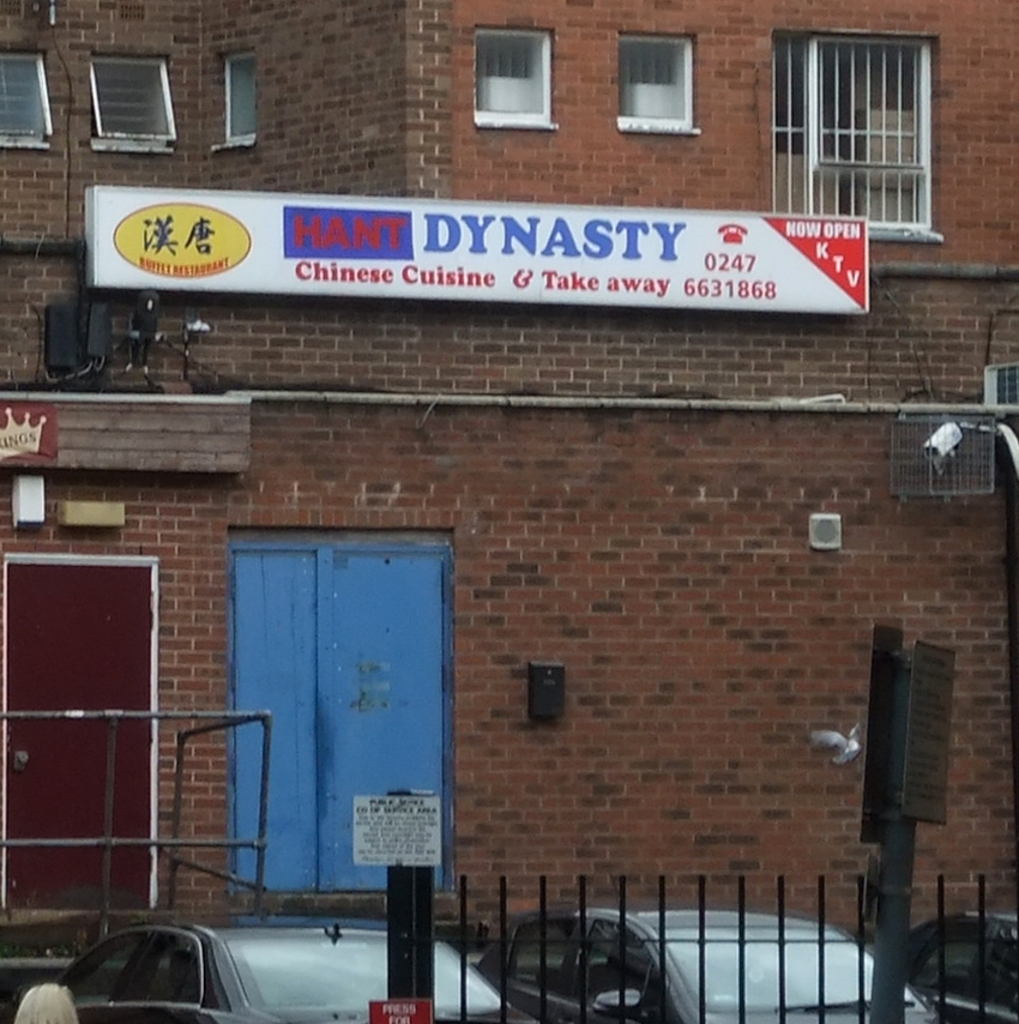Car: (445, 905, 924, 1020), (52, 924, 535, 1022), (905, 902, 1017, 1022)
